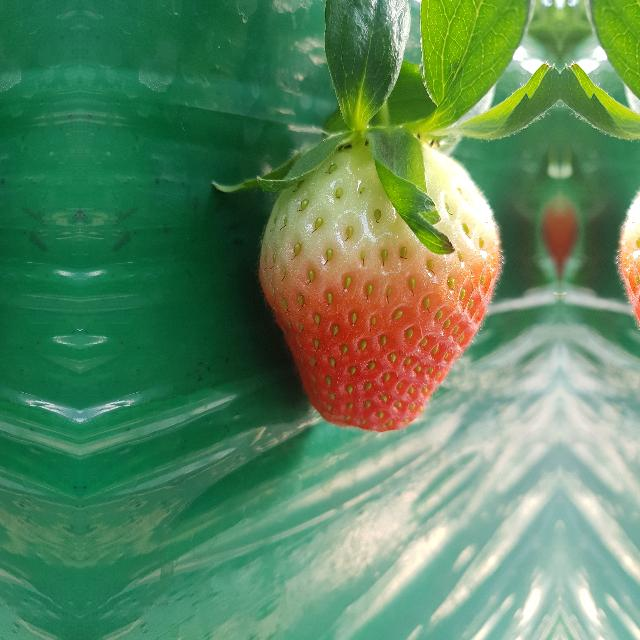Health_75: (256, 136, 502, 432)
